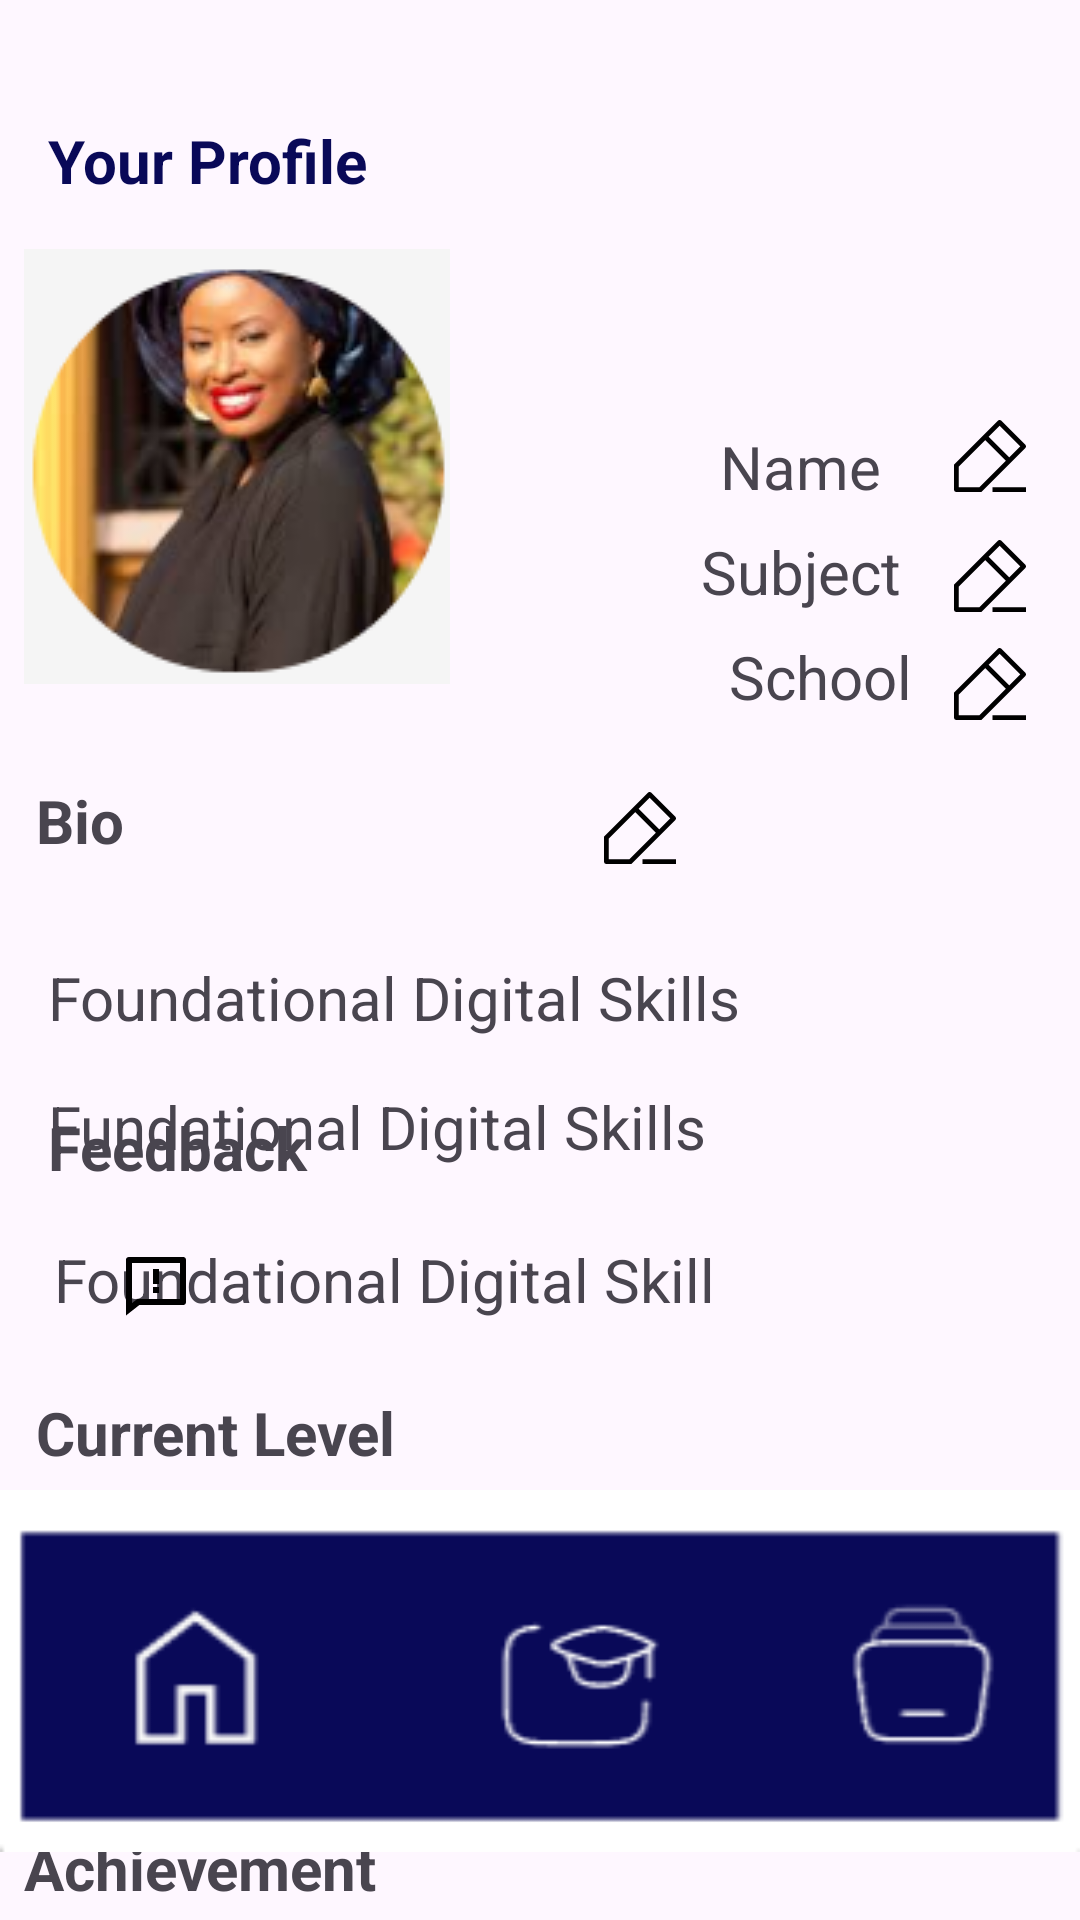

Screen size 1080px x 1920px. Icon name, then its box in pixels as (x1, y1, x2, y2):
edit: (954, 420, 1026, 492), (954, 540, 1026, 612), (954, 648, 1026, 720), (604, 792, 676, 864)
